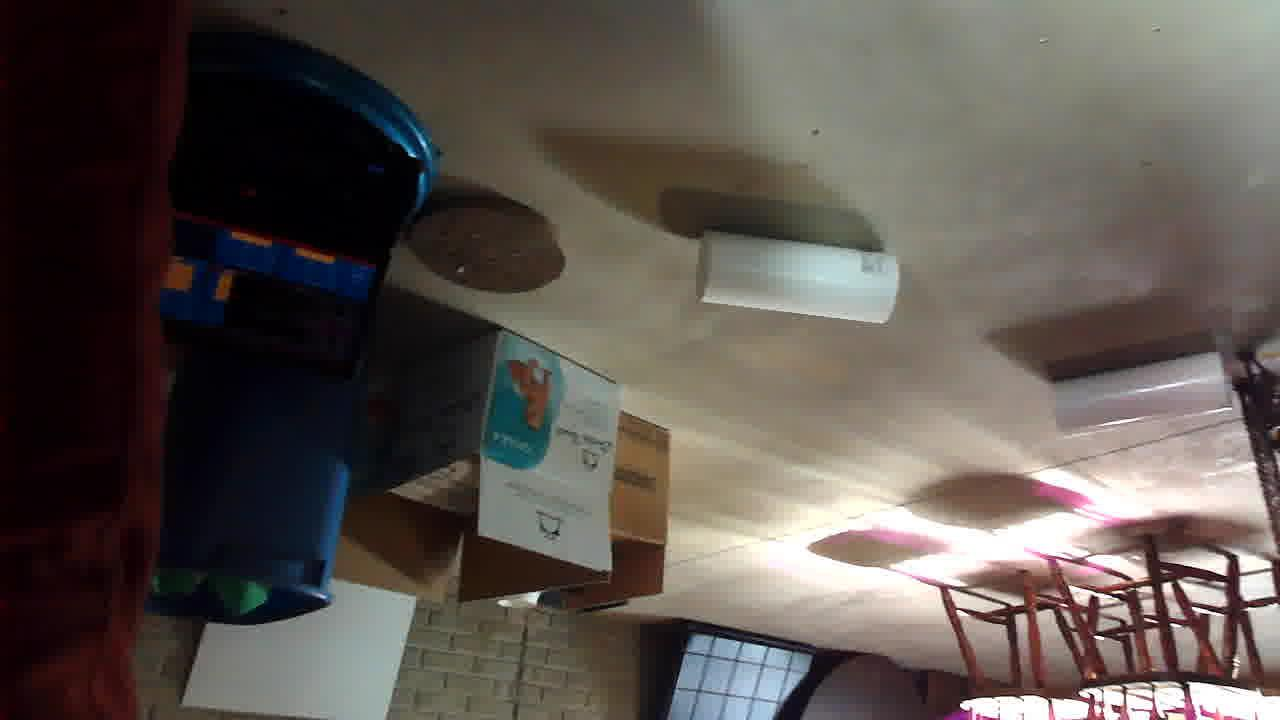coral: (374, 389, 588, 495), (49, 286, 228, 366)
